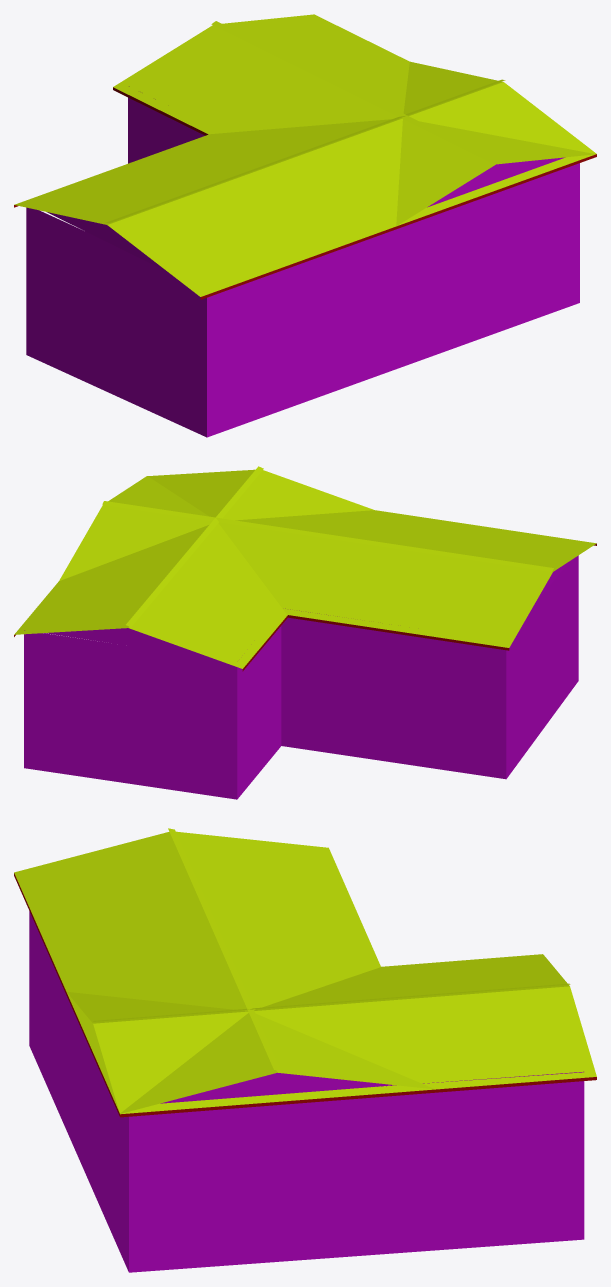
Rendered from niv_59.glb.
3 views of the same model, one above another, from view 1: azimuth 30°, elevation 25°; view 2: azimuth 150°, elevation 25°; view 3: azimuth 270°, elevation 25° (orthographic). The views are drawn at different scales.
Visible parts, largest first — view 1: niv_59; view 2: niv_59; view 3: niv_59.
Part boxes in pixels (x1,y1,x2,y2): niv_59: [14, 14, 596, 437]; niv_59: [14, 466, 596, 799]; niv_59: [14, 828, 596, 1272].
Bounding box in the file's own units: 21.3 × 7.38 × 19.71.
